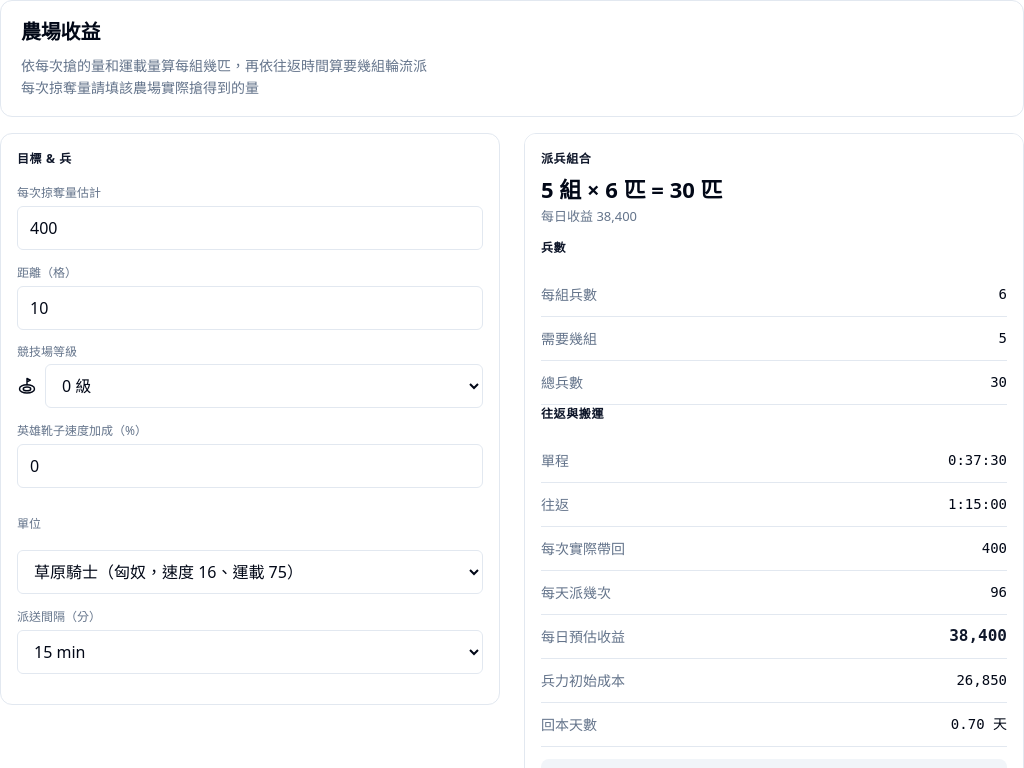
Test: 農場收益頁面 › 掠奪量填 0（不是空白）→ 照算 0 兵
The width and height of the screenshot is (1024, 768).
Replace the text in the field labelled "每次掠奪量估計" with "0" at (250, 228), box left=17, top=206, right=483, bottom=250
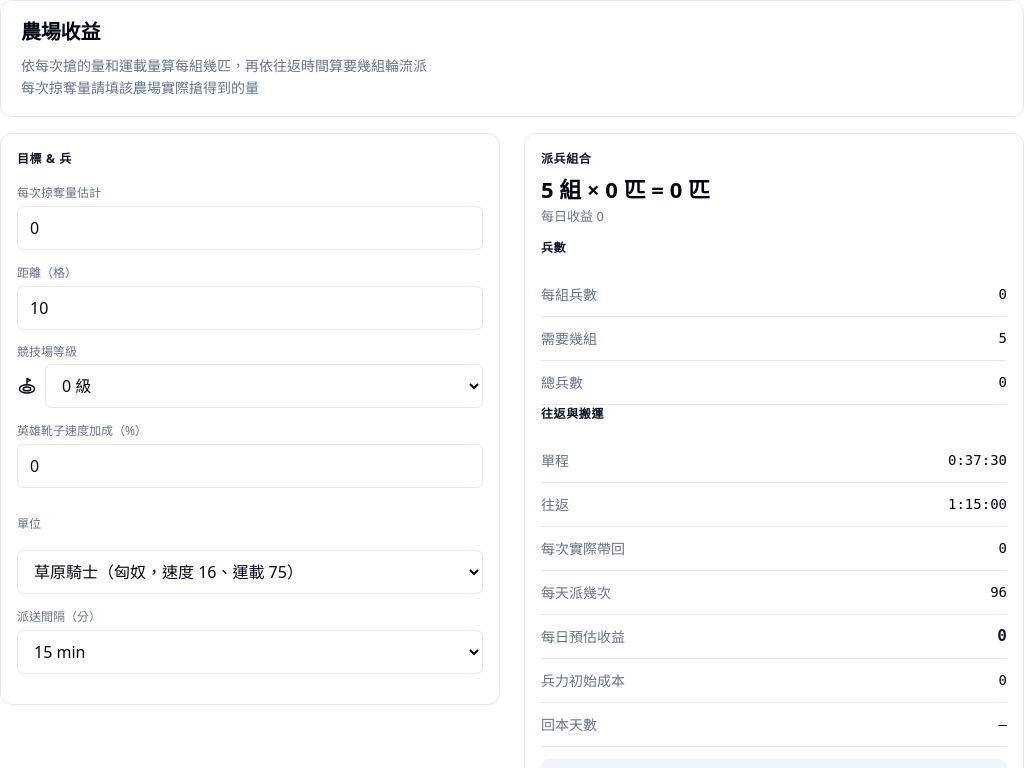
Now the text with test id "farming-composition" reads "5 組 × 0 匹 = 0 匹", box left=541, top=174, right=710, bottom=204
